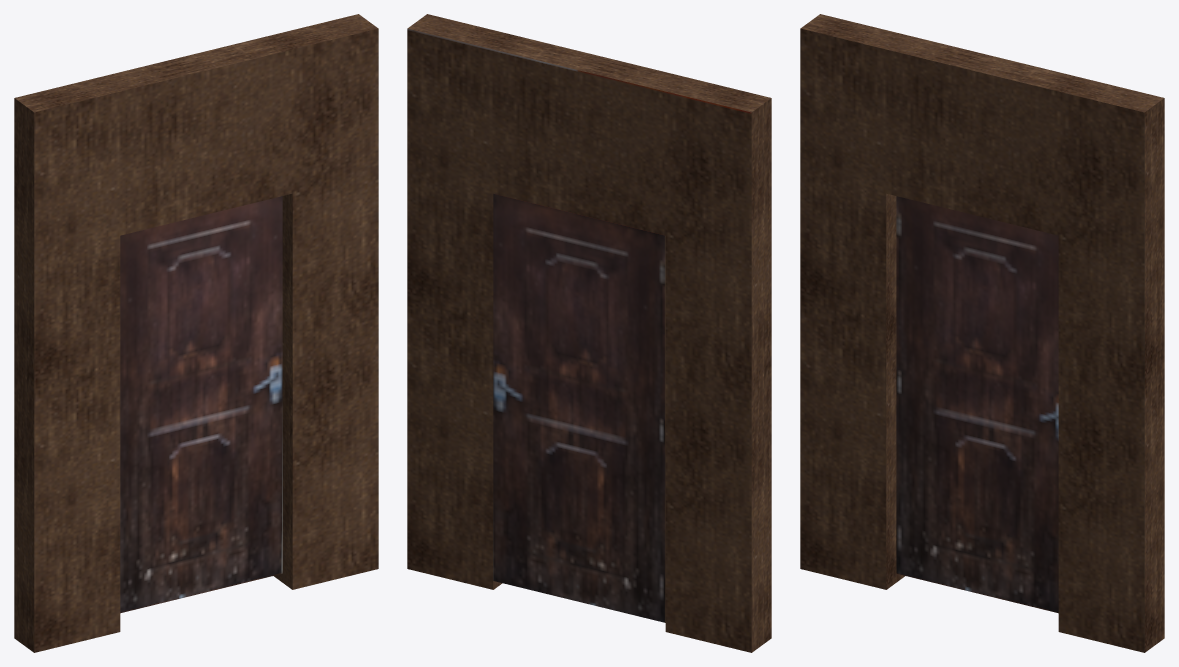
Rendered from door.glb.
3 views of the same model, side by side, from view 1: azimuth 30°, elevation 25°; view 2: azimuth 150°, elevation 25°; view 3: azimuth 330°, elevation 25° (orthographic).
Visible parts, largest first — view 1: door_single_01, door_01.002; view 2: door_single_01, door_01.002; view 3: door_single_01, door_01.002.
Part boxes in pixels (x1,y1,x2,y2): door_single_01: [14, 14, 378, 652]; door_01.002: [120, 196, 282, 613]; door_single_01: [407, 14, 771, 652]; door_01.002: [493, 193, 665, 622]; door_single_01: [800, 14, 1164, 652]; door_01.002: [896, 196, 1058, 613].
Size of the model in its own units: 2 by 3 by 0.2.
1 material, 1 textured.
